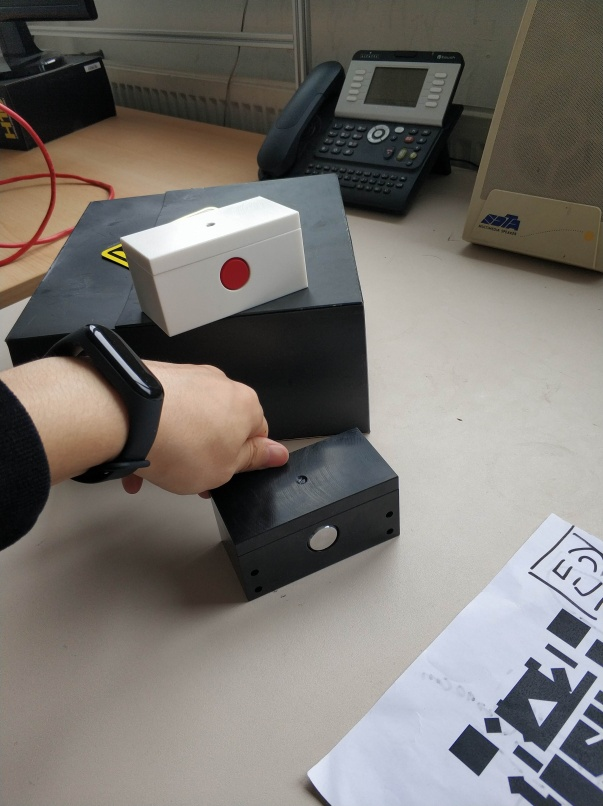black+black+silver: (202, 427, 402, 605)
white+white+red: (117, 191, 313, 344)
